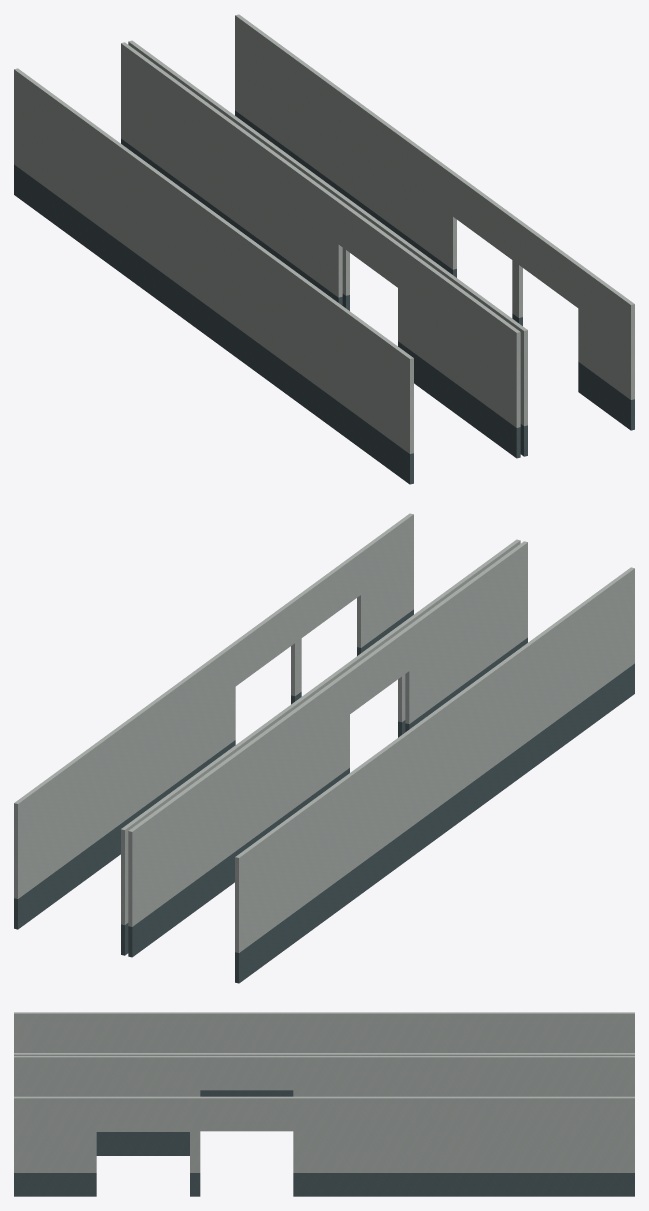
The model's file is AST-MED-G3-002_port2_receiver_patch.glb.
The picture shows the model from 3 angles, top to bottom: view 1: azimuth 30°, elevation 25°; view 2: azimuth 150°, elevation 25°; view 3: azimuth 270°, elevation 25°; orthographic projection. The views are drawn at different scales.
Visible parts, largest first — view 1: screen_wall_staff_white_paint_-3_-13, screen_wall_staff_bluegrey_paint_-3_-13; view 2: screen_wall_staff_white_paint_-3_-13, screen_wall_staff_bluegrey_paint_-3_-13; view 3: screen_wall_staff_white_paint_-3_-13, screen_wall_staff_bluegrey_paint_-3_-13.
Boxes of the visible parts, x1,y1,x2,y2 form: screen_wall_staff_white_paint_-3_-13: (14, 14, 634, 453); screen_wall_staff_bluegrey_paint_-3_-13: (14, 110, 634, 484); screen_wall_staff_white_paint_-3_-13: (14, 513, 634, 952); screen_wall_staff_bluegrey_paint_-3_-13: (14, 609, 634, 983); screen_wall_staff_white_paint_-3_-13: (14, 1012, 634, 1172); screen_wall_staff_bluegrey_paint_-3_-13: (14, 1090, 634, 1196).
Bounding box in the file's own units: 7.88 × 4.2 × 24.
Materials: 2 (2 with a texture image).
